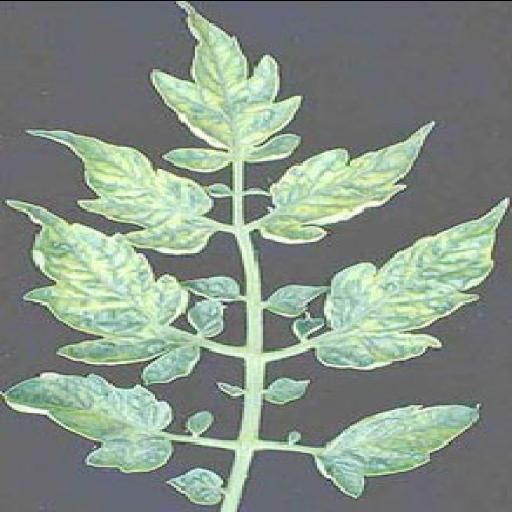Mosaic Virus: (5, 200, 225, 384), (312, 198, 510, 369), (146, 0, 304, 170), (24, 125, 214, 257), (258, 121, 436, 243), (0, 372, 181, 472), (308, 401, 480, 496)
